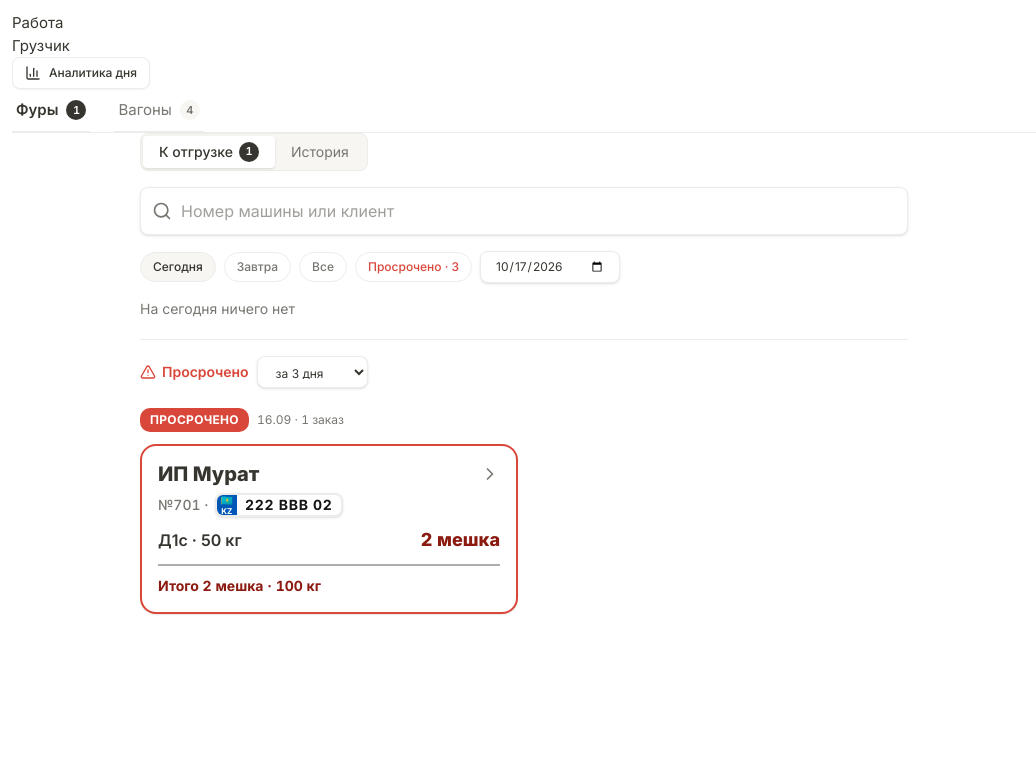
Test case: LoaderPage › денег не показывает — ни в очереди, ни в заказе
The image size is (1036, 780).
Click the button "№701": (209, 474) [140,444,518,614]
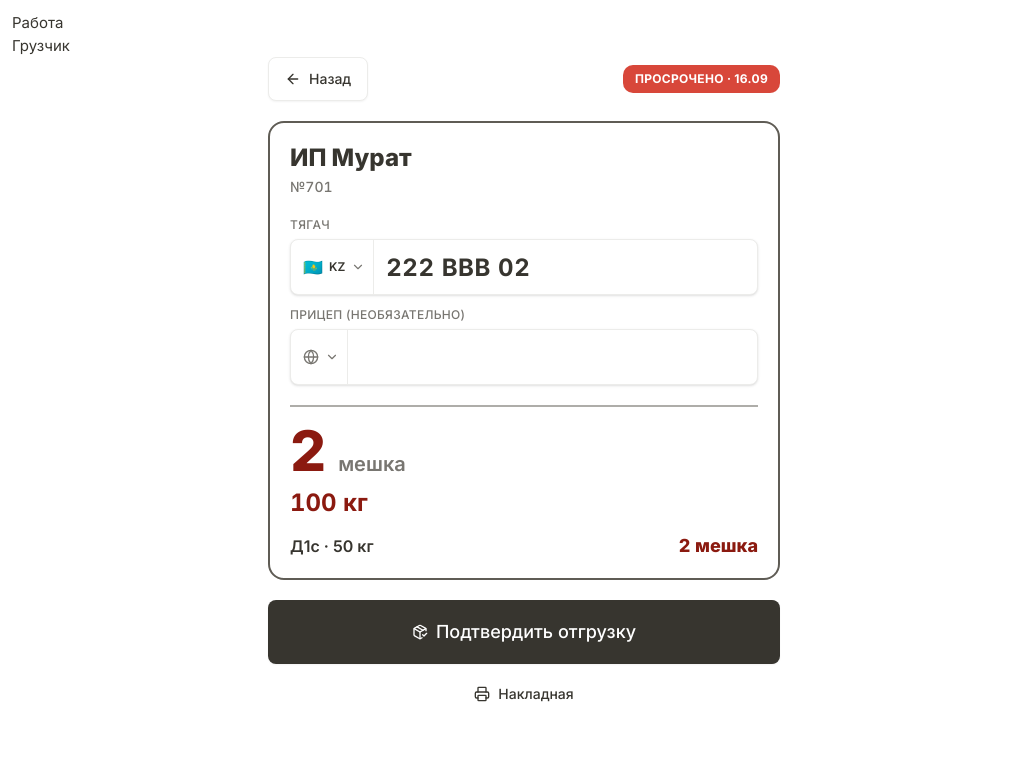
Now the button "Подтвердить отгрузку" is enabled, box [268,600,780,664]
